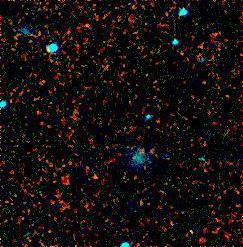star: (79, 163, 109, 193)
